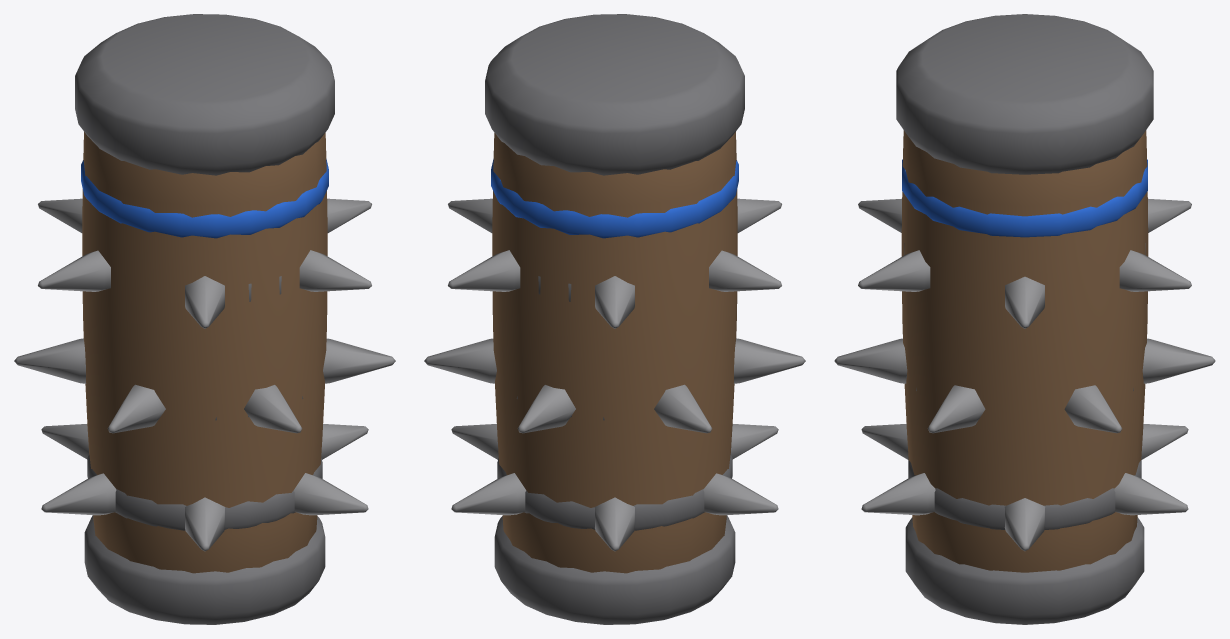
Rendered from Kit_Limb_Spiked_L.glb.
The picture shows the model from 3 angles, left to right: view 1: azimuth 30°, elevation 25°; view 2: azimuth 150°, elevation 25°; view 3: azimuth 270°, elevation 25°; orthographic projection.
Visible parts, largest first — view 1: Kit_Limb_Spiked_L; view 2: Kit_Limb_Spiked_L; view 3: Kit_Limb_Spiked_L.
Part boxes in pixels (x1,y1,x2,y2): Kit_Limb_Spiked_L: (14, 14, 395, 624); Kit_Limb_Spiked_L: (424, 14, 805, 624); Kit_Limb_Spiked_L: (834, 14, 1215, 624).
Bounding box in the file's own units: 0.237 × 0.354 × 0.2345.
